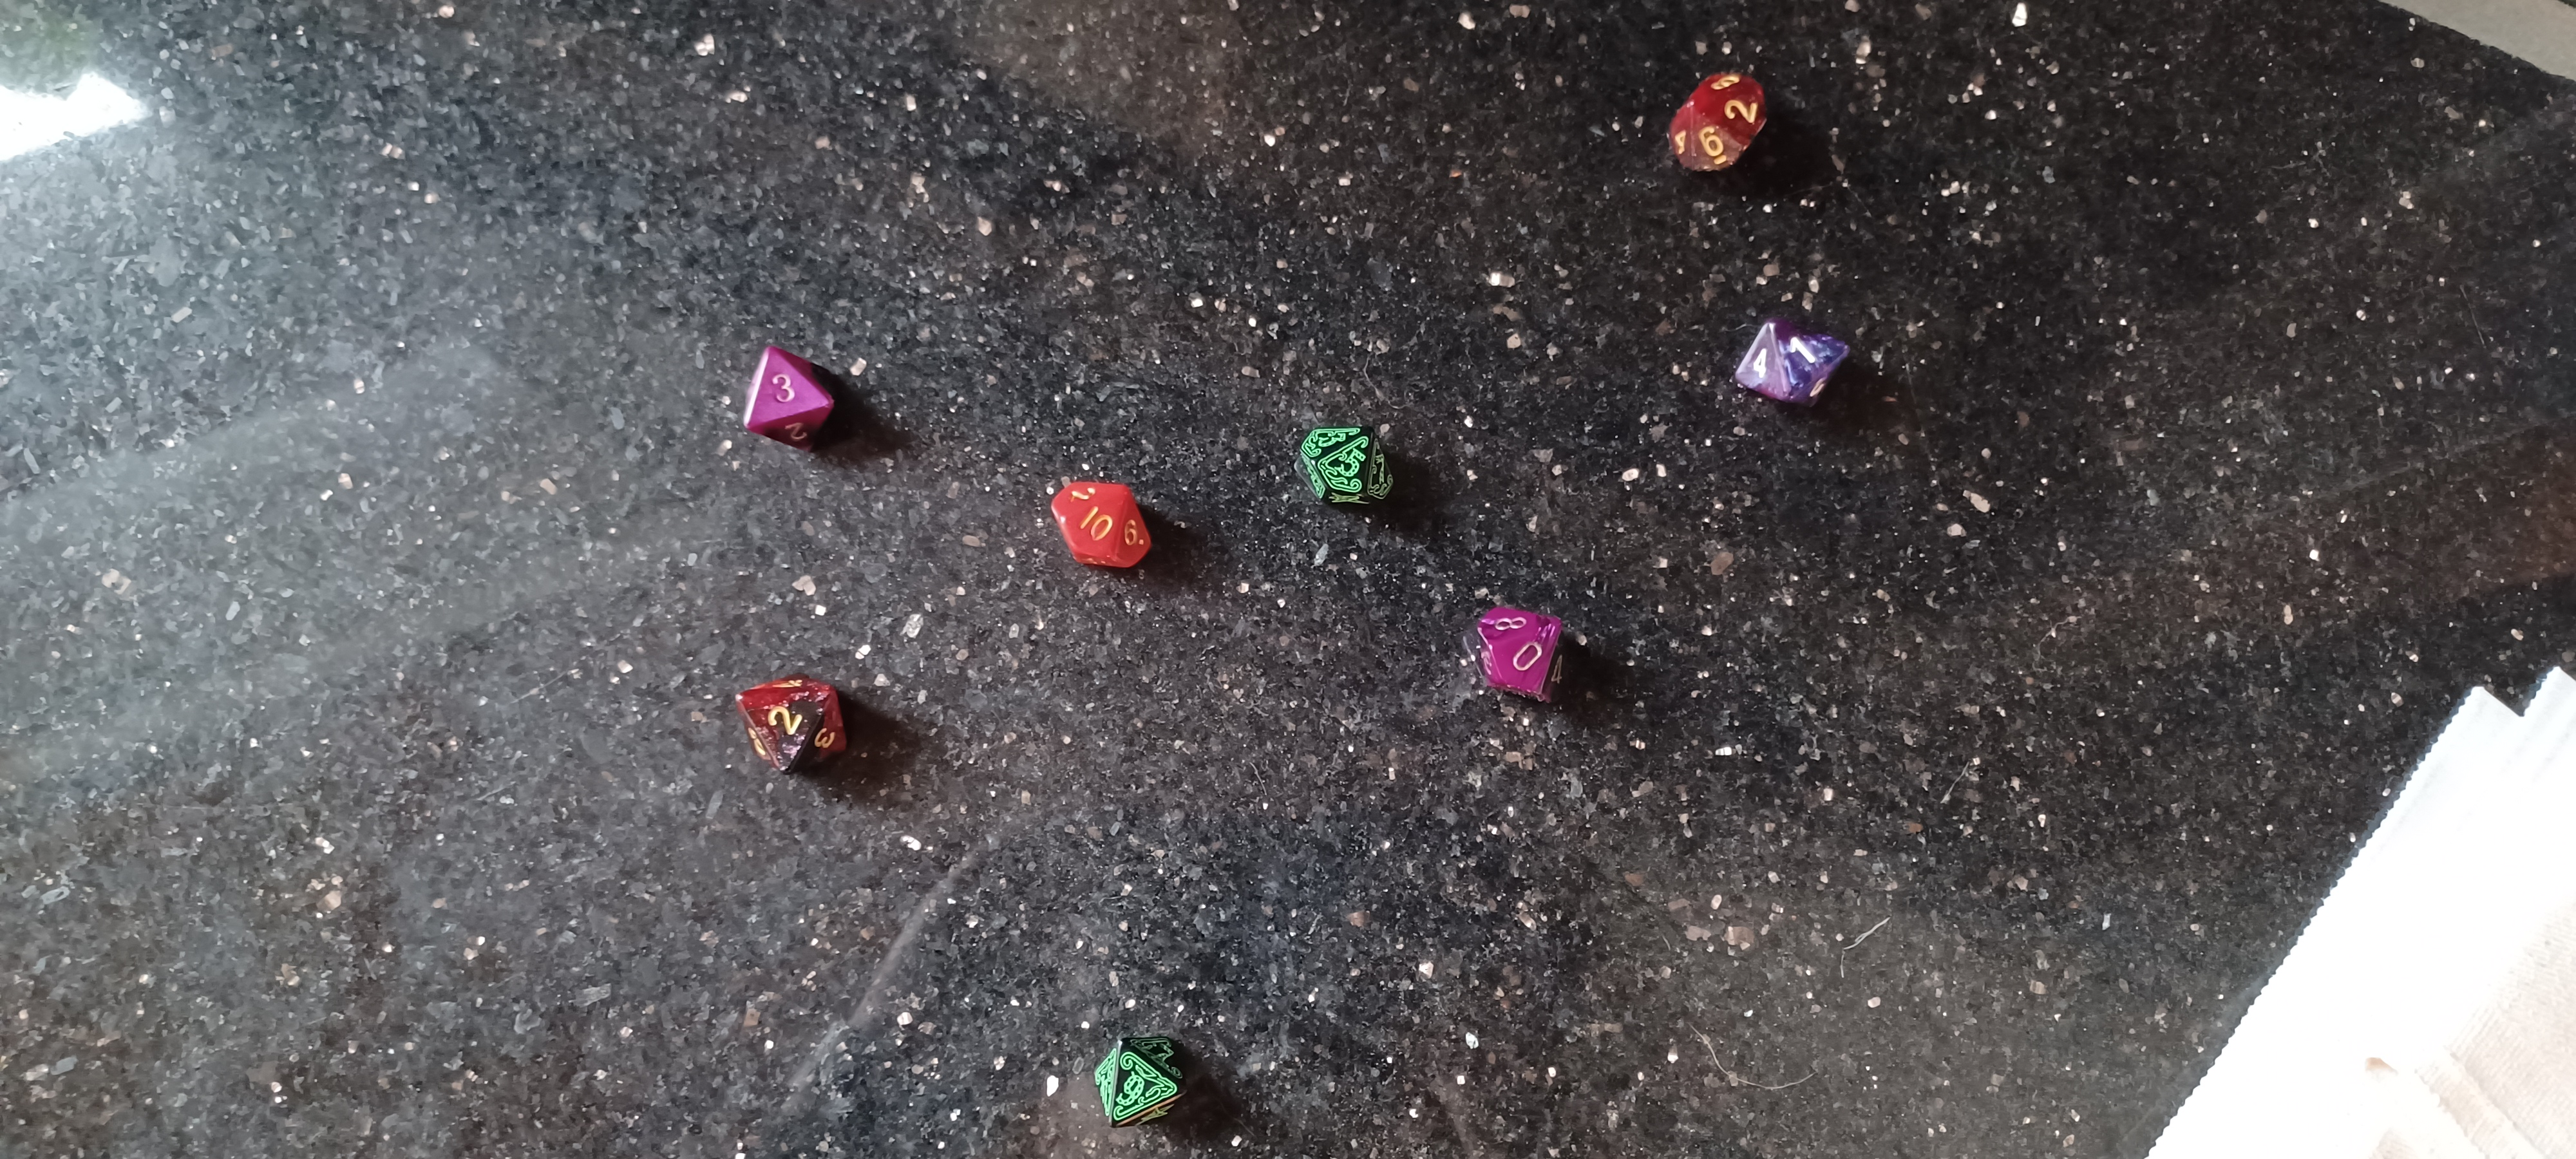five: (1262, 394, 1433, 545)
one: (1704, 284, 1886, 455)
six: (1065, 1011, 1224, 1144)
ten: (1010, 448, 1188, 614)
three: (710, 317, 874, 481)
two: (1625, 31, 1814, 202), (710, 635, 885, 814)
zero: (1441, 576, 1603, 731)
